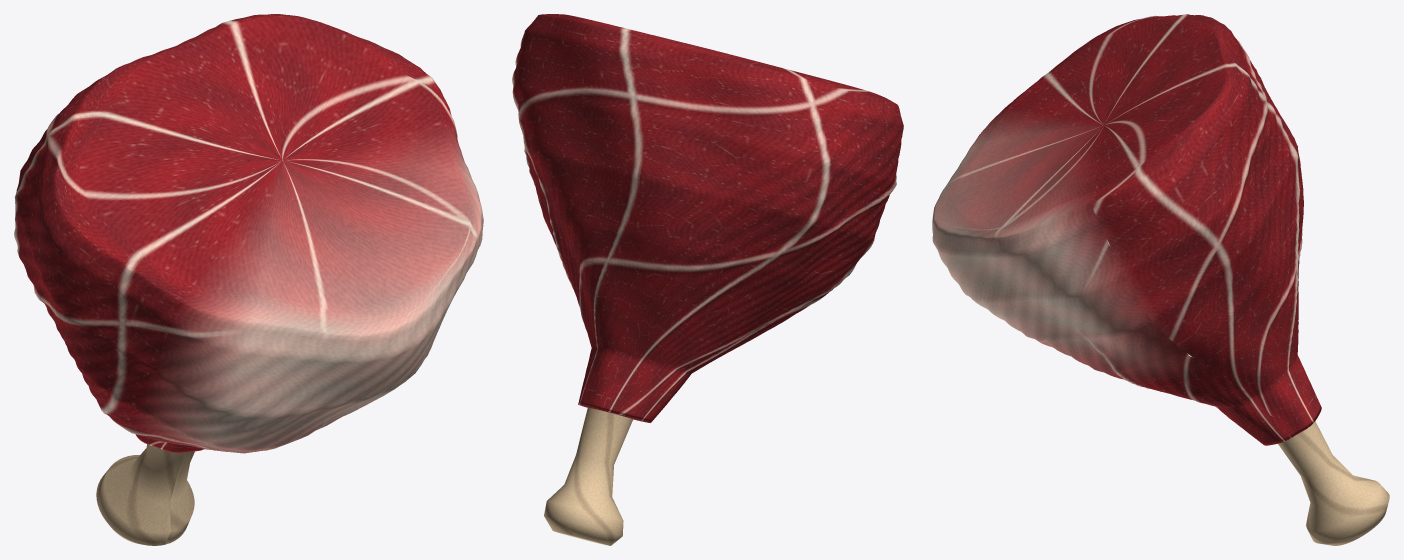
The model's file is raw_ember_haunch.glb.
3 views of the same model, side by side, from view 1: azimuth 30°, elevation 25°; view 2: azimuth 150°, elevation 25°; view 3: azimuth 270°, elevation 25° (orthographic). The views are drawn at different scales.
Visible parts, largest first — view 1: raw_ember_haunch wet red muscle and ivory fascia, Ivory dense cortical bone with residual tissue staining; view 2: raw_ember_haunch wet red muscle and ivory fascia, Ivory dense cortical bone with residual tissue staining; view 3: raw_ember_haunch wet red muscle and ivory fascia, Ivory dense cortical bone with residual tissue staining.
Boxes of the visible parts, <box> form: raw_ember_haunch wet red muscle and ivory fascia: <box>14,14,483,453</box>; Ivory dense cortical bone with residual tissue staining: <box>96,444,194,545</box>; raw_ember_haunch wet red muscle and ivory fascia: <box>512,14,903,422</box>; Ivory dense cortical bone with residual tissue staining: <box>544,407,633,545</box>; raw_ember_haunch wet red muscle and ivory fascia: <box>932,14,1321,445</box>; Ivory dense cortical bone with residual tissue staining: <box>1278,421,1389,545</box>.
Size of the model in its own units: 0.4237 by 0.5485 by 0.4687.
Materials: 2 (2 with a texture image).
